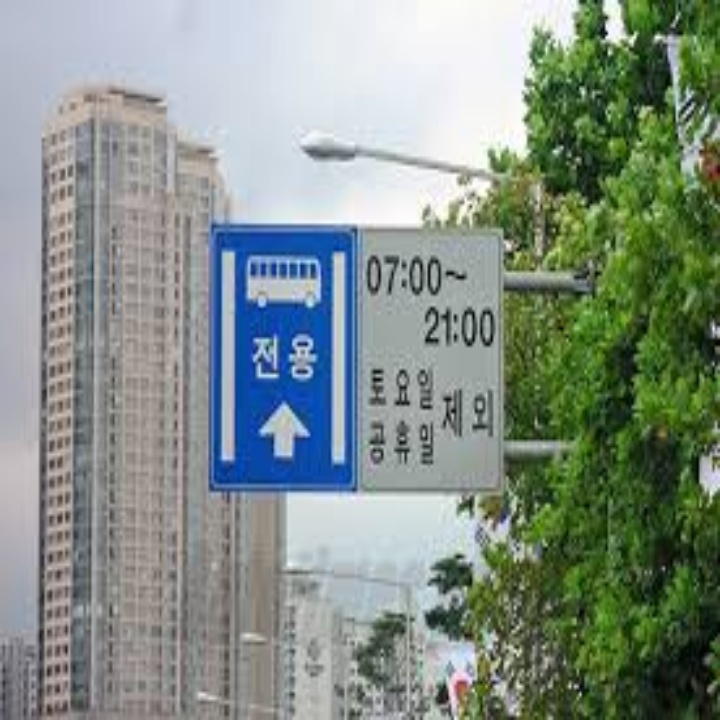bus: (241, 248, 324, 312)
